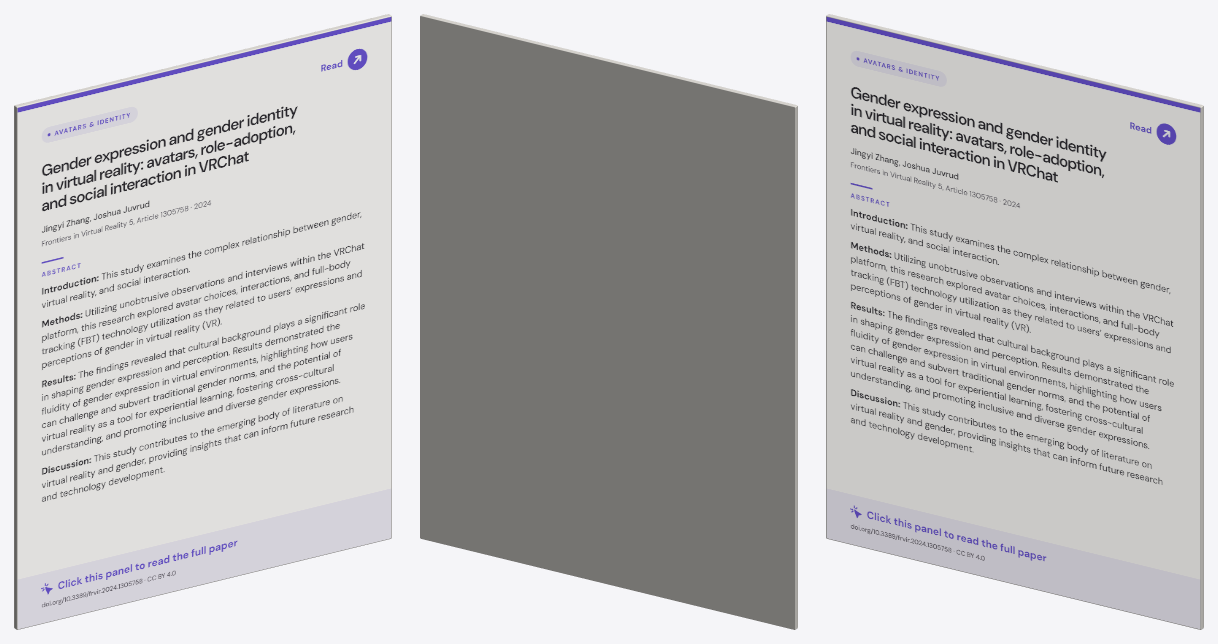
The model's file is zhang-2024.glb.
3 views of the same model, side by side, from view 1: azimuth 30°, elevation 25°; view 2: azimuth 150°, elevation 25°; view 3: azimuth 330°, elevation 25° (orthographic).
Parts seen in each view (by area): view 1: zhang-2024; view 2: zhang-2024; view 3: zhang-2024.
Boxes of the visible parts, x1=… form: zhang-2024: x1=14, y1=14, x2=391, y2=629; zhang-2024: x1=420, y1=14, x2=797, y2=629; zhang-2024: x1=826, y1=14, x2=1203, y2=629.
Bounding box in the file's own units: 0.904 × 1.2 × 0.012.
2 materials, 1 textured.
